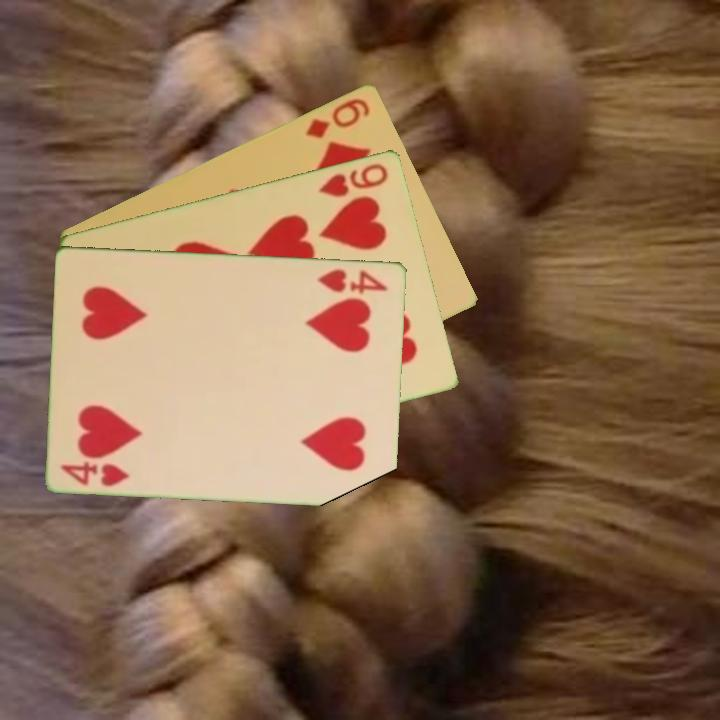4h: (314, 265, 391, 298), (57, 457, 132, 489)
6d: (302, 94, 373, 141)
9h: (315, 159, 391, 200)
